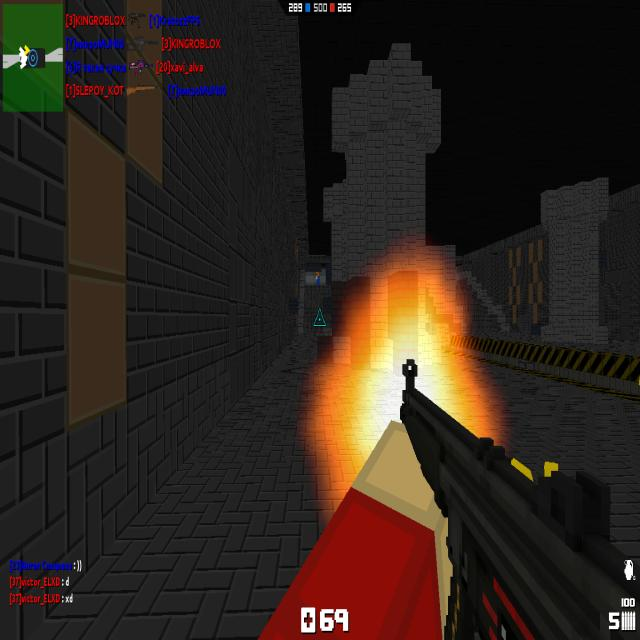enemy: (315, 271, 320, 286)
